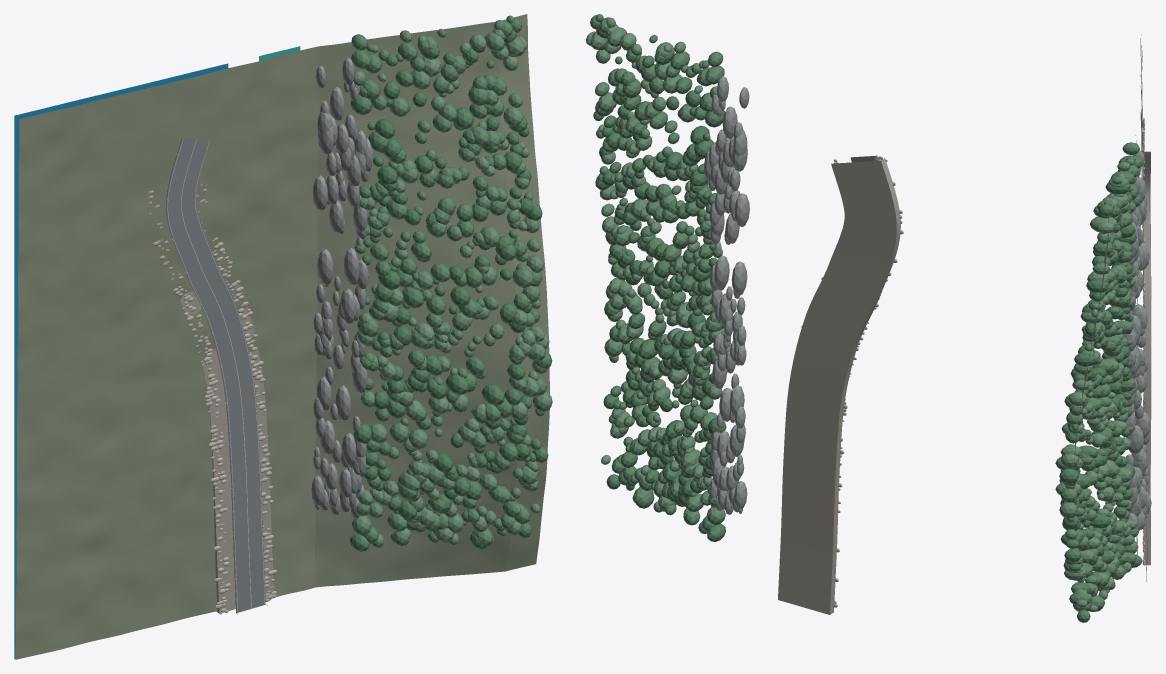
File: kiyi_kordon_yolu.glb
The picture shows the model from 3 angles, left to right: view 1: azimuth 30°, elevation 25°; view 2: azimuth 150°, elevation 25°; view 3: azimuth 270°, elevation 25°; orthographic projection. The views are drawn at different scales.
Parts seen in each view (by area): view 1: Coastal_hillside, Two_lane_coastal_road, Rock_armour_causeway, Deep_blue_sea; view 2: Rock_armour_causeway; view 3: Rock_armour_causeway, Coastal_hillside, Grey_rock_cut_10, Forest_canopy_609, Forest_canopy_123, Grey_rock_cut_87, Grey_rock_cut_91, Forest_canopy_416, Forest_canopy_331, Forest_canopy_146, Forest_canopy_29, Forest_canopy_188 (+16 smaller).
Part boxes in pixels (x1=…): Coastal_hillside: x1=15, y1=14, x2=549, y2=659; Two_lane_coastal_road: x1=166, y1=138, x2=265, y2=613; Rock_armour_causeway: x1=180, y1=284, x2=273, y2=613; Deep_blue_sea: x1=14, y1=63, x2=228, y2=658; Rock_armour_causeway: x1=778, y1=158, x2=900, y2=614; Rock_armour_causeway: x1=1143, y1=151, x2=1151, y2=565; Coastal_hillside: x1=1072, y1=34, x2=1147, y2=581; Grey_rock_cut_10: x1=1126, y1=425, x2=1144, y2=454; Forest_canopy_609: x1=1059, y1=468, x2=1079, y2=484; Forest_canopy_123: x1=1059, y1=502, x2=1077, y2=518; Grey_rock_cut_87: x1=1132, y1=304, x2=1147, y2=329; Grey_rock_cut_91: x1=1135, y1=412, x2=1150, y2=438; Forest_canopy_416: x1=1086, y1=280, x2=1108, y2=292; Forest_canopy_331: x1=1074, y1=353, x2=1095, y2=366; Forest_canopy_146: x1=1090, y1=513, x2=1110, y2=528; Forest_canopy_29: x1=1089, y1=216, x2=1117, y2=231; Forest_canopy_188: x1=1068, y1=392, x2=1087, y2=406.
Size of the model in its own units: 160 by 173 by 33.04.
